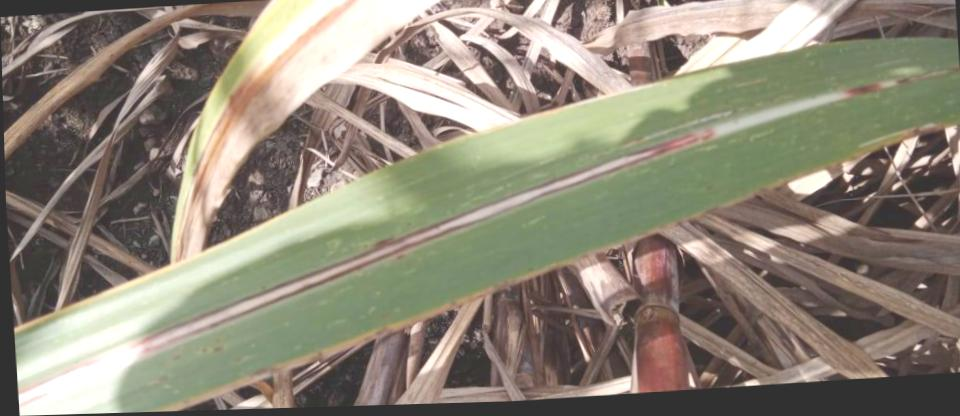RedRot: (19, 128, 717, 409), (895, 66, 959, 85), (843, 84, 884, 96)
Yellow: (152, 126, 944, 412)
